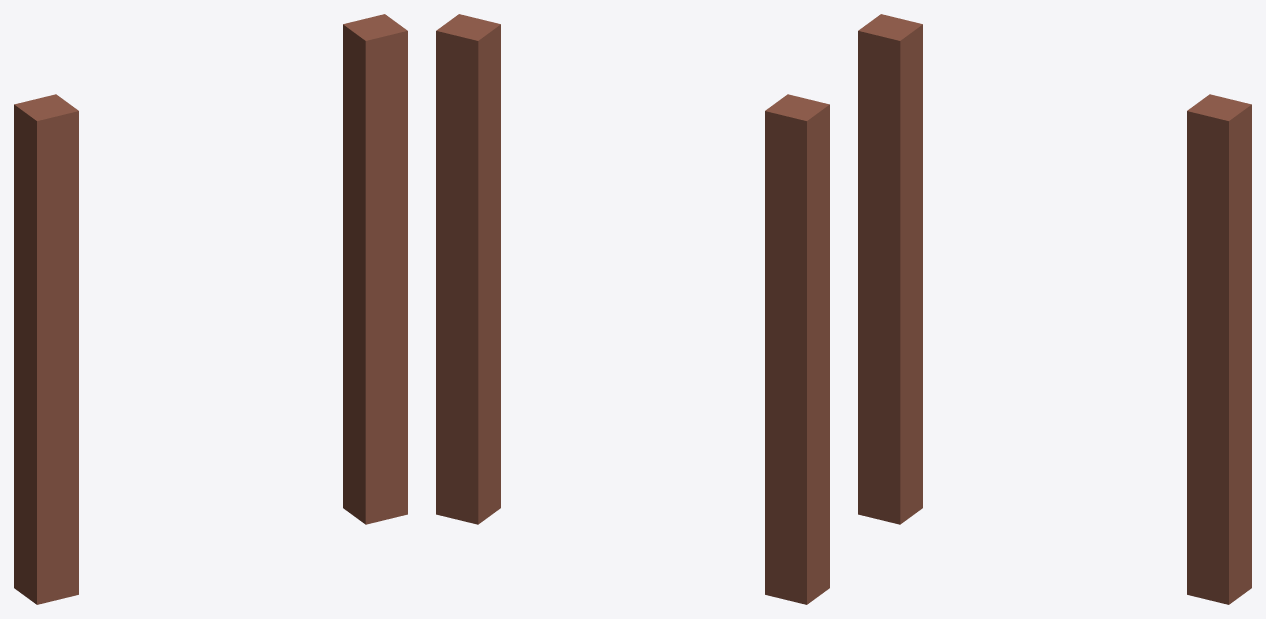
Rendered from pillars_wood.fbx.
3 renders of one model, left to right at view 1: azimuth 30°, elevation 25°; view 2: azimuth 150°, elevation 25°; view 3: azimuth 330°, elevation 25°, orthographic.
Parts seen in each view (by area): view 1: pillars_wood; view 2: pillars_wood; view 3: pillars_wood.
Part boxes in pixels (left/top/right/bottom): pillars_wood: left=14, top=14, right=407, bottom=604; pillars_wood: left=436, top=14, right=829, bottom=604; pillars_wood: left=858, top=14, right=1251, bottom=604.
Bounding box in the file's own units: 3.62 × 0.388 × 4.52.
